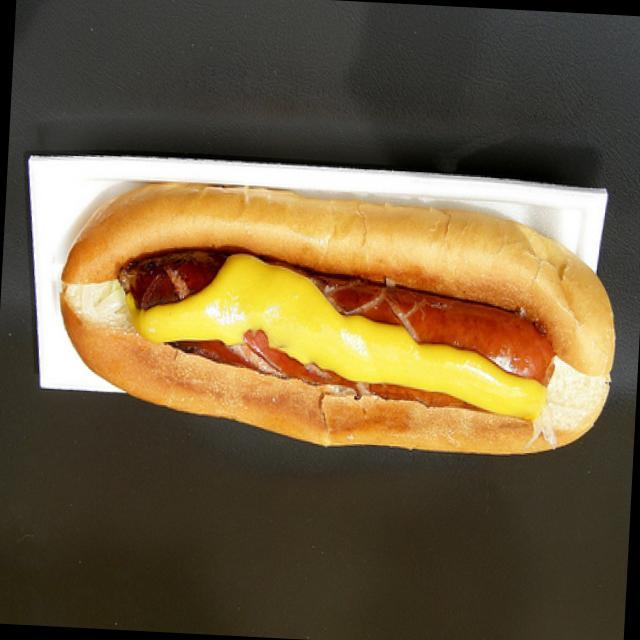Hot Dog: (46, 180, 627, 476)
